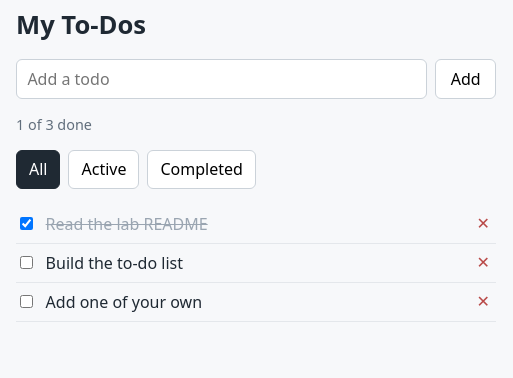
Test: adds a todo from the form
Type "Walk the dog" into the field with placeholder "Add a todo".
click(222, 79); type("Walk the dog")  # box [16,59,427,99]
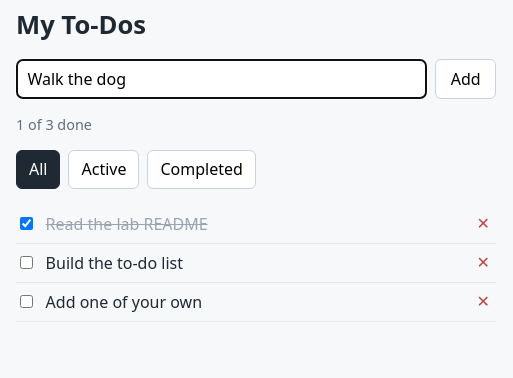
Click the button "Add".
click(466, 79)  # box [435,59,496,99]
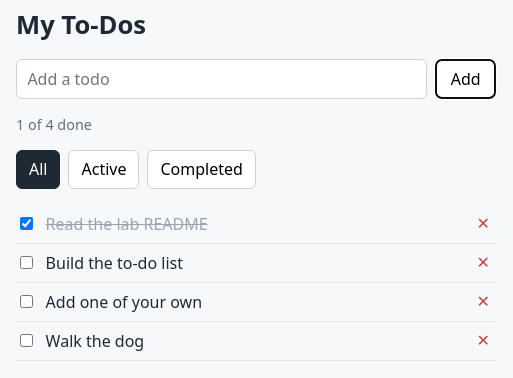
Check: the text "Walk the dog" is shown, box [46,330,144,352]
